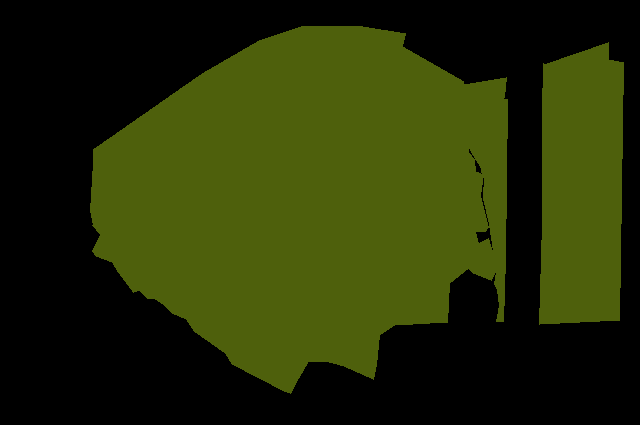Train: (90, 26, 497, 393), (464, 42, 624, 324)
